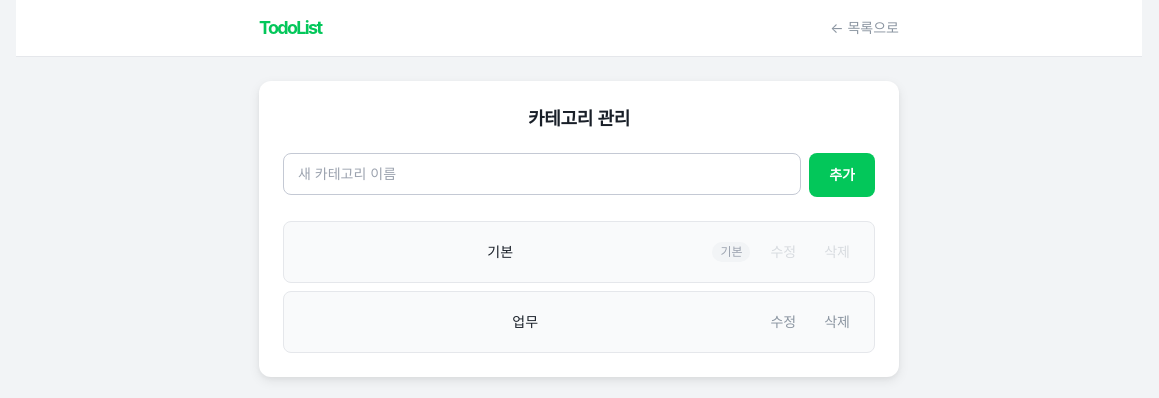
Test: CategoryPage › 카테고리 수정 › 사용자 카테고리의 수정 버튼 클릭 시 편집 모드로 진입한다
Click the button with aria-label "업무 수정" at point(783, 322), box [762,304,804,340]
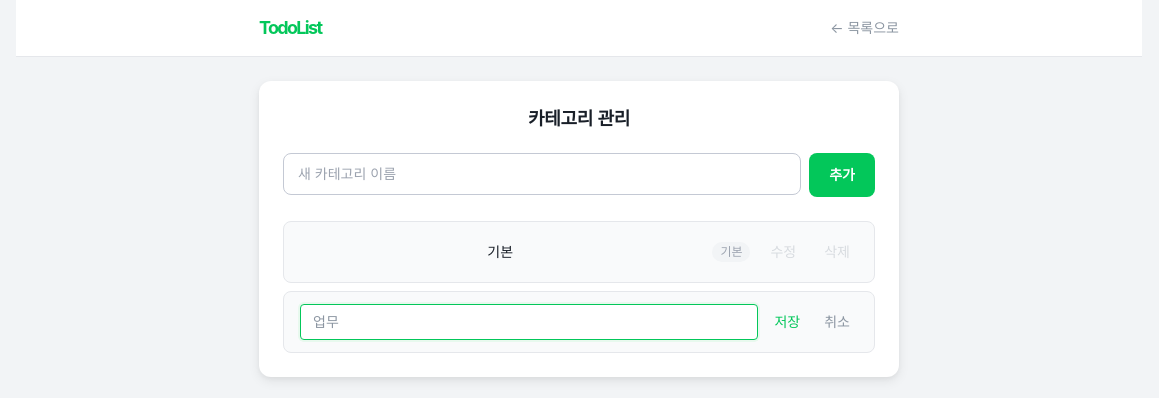
expect the field named "카테고리 이름 수정" is shown: met, box [300,304,758,340]
